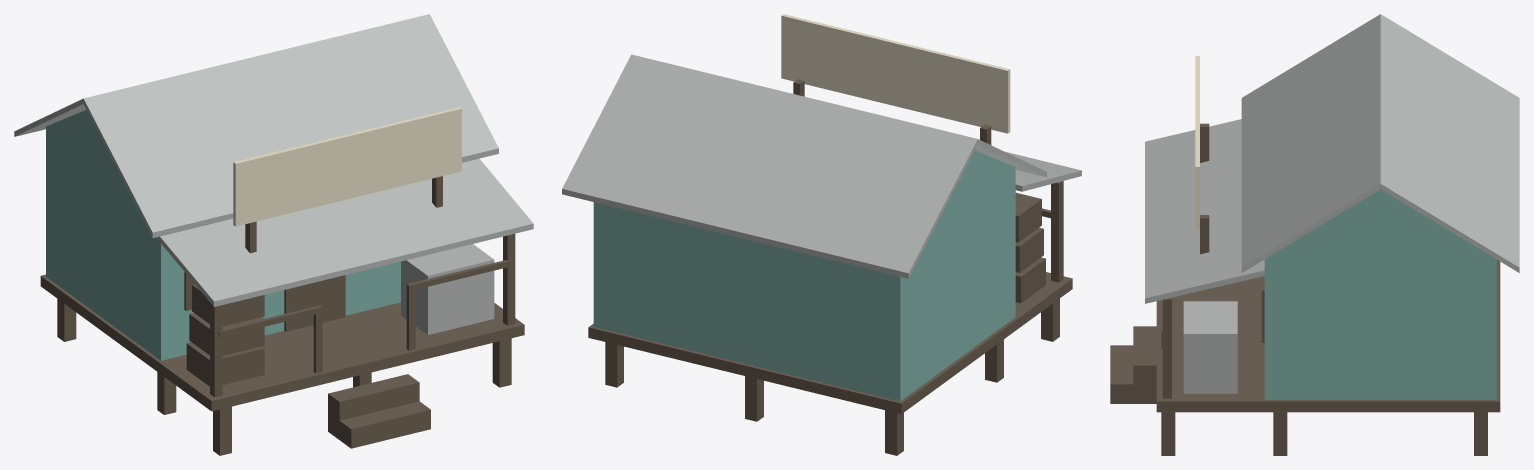
File: bait-shack.glb
The picture shows the model from 3 angles, left to right: view 1: azimuth 30°, elevation 25°; view 2: azimuth 150°, elevation 25°; view 3: azimuth 270°, elevation 25°; orthographic projection.
Visible parts, largest first — view 1: bait_shack_body, bait_shack_sign; view 2: bait_shack_body, bait_shack_sign; view 3: bait_shack_body, bait_shack_sign.
Part boxes in pixels (x1,y1,x2,y2): bait_shack_body: [14, 14, 533, 455]; bait_shack_sign: [233, 107, 461, 226]; bait_shack_body: [562, 54, 1081, 455]; bait_shack_sign: [781, 14, 1010, 133]; bait_shack_body: [1110, 14, 1519, 455]; bait_shack_sign: [1195, 56, 1199, 229].
Bounding box in the file's own units: 5.2 × 4.08 × 5.3.
